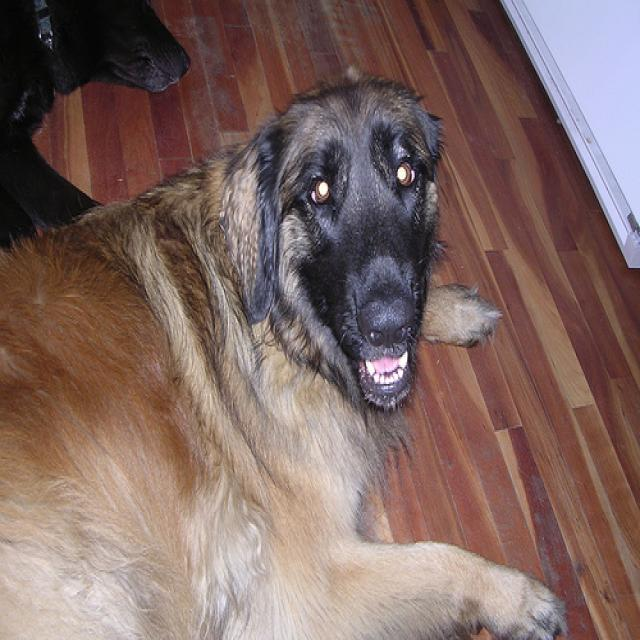dog-leonberger: (1, 55, 581, 637)
